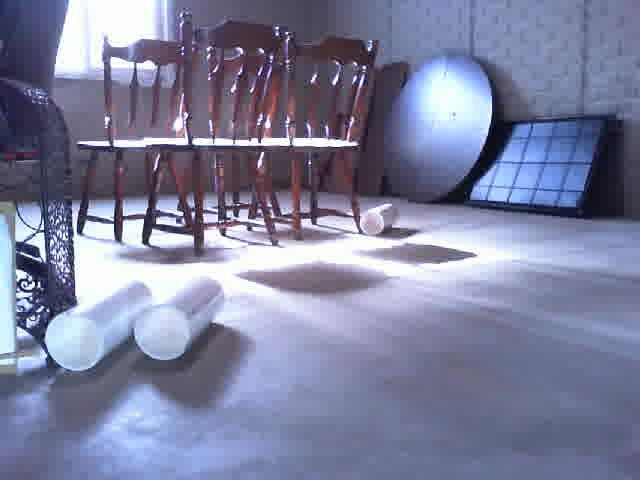coral: (49, 279, 149, 372), (136, 278, 221, 360), (361, 204, 397, 234)
